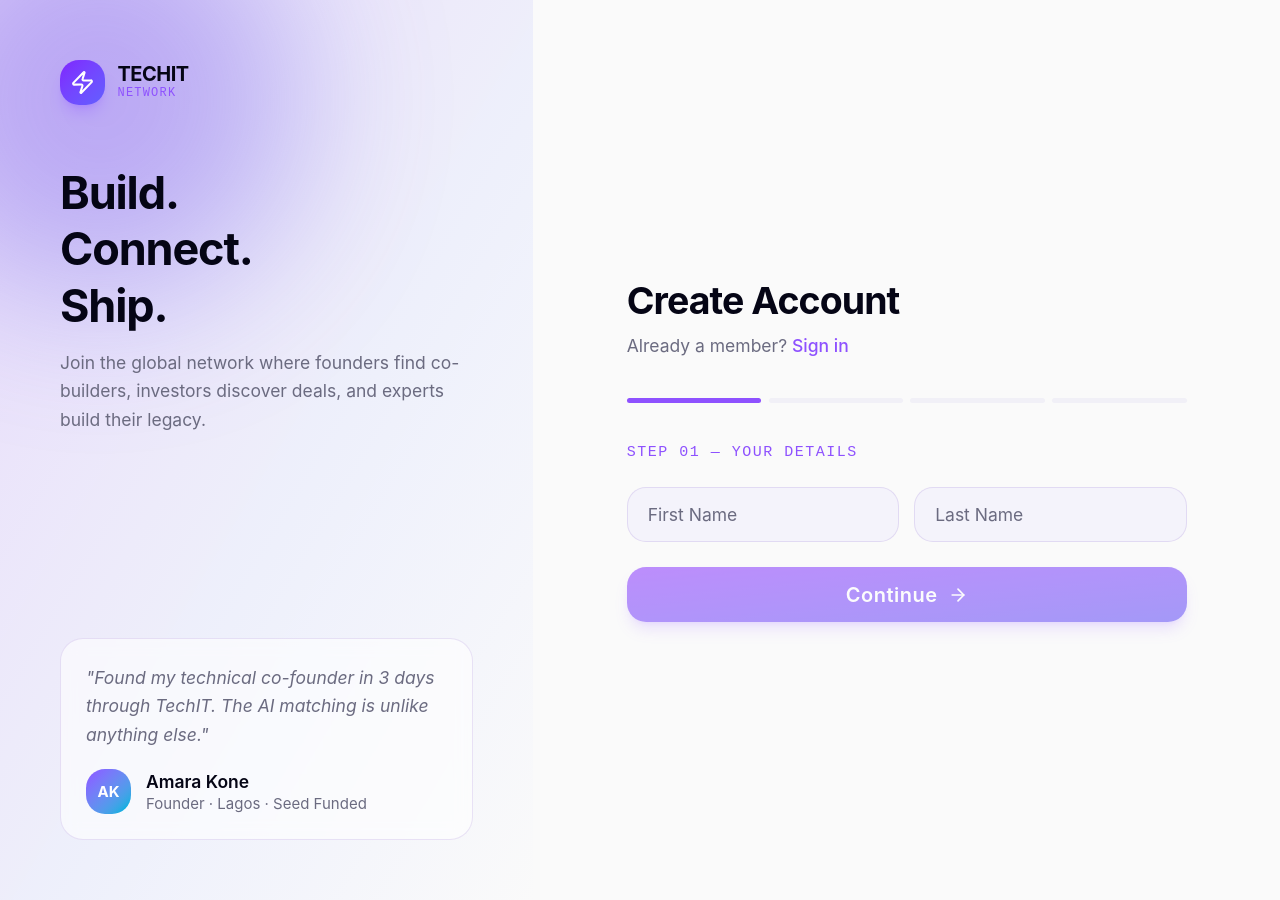
it: Signup page › Step 2 — Role & Email › Back button returns to step 1
In the field with placeholder "First Name": {"x": 763, "y": 515} [627,488,899,542], type "Alice"
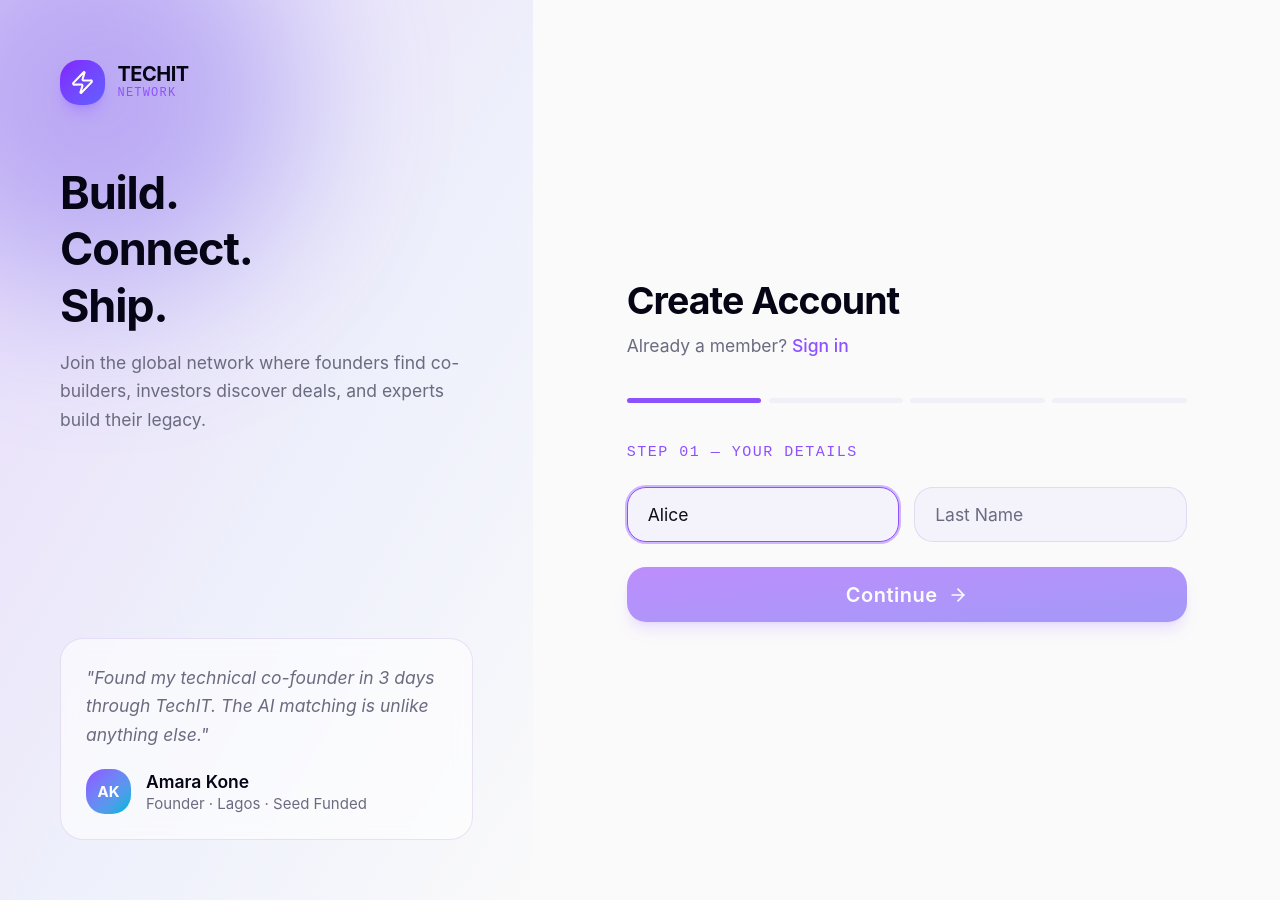
In the field with placeholder "Last Name": {"x": 1050, "y": 515} [914,488,1187,542], type "Smith"
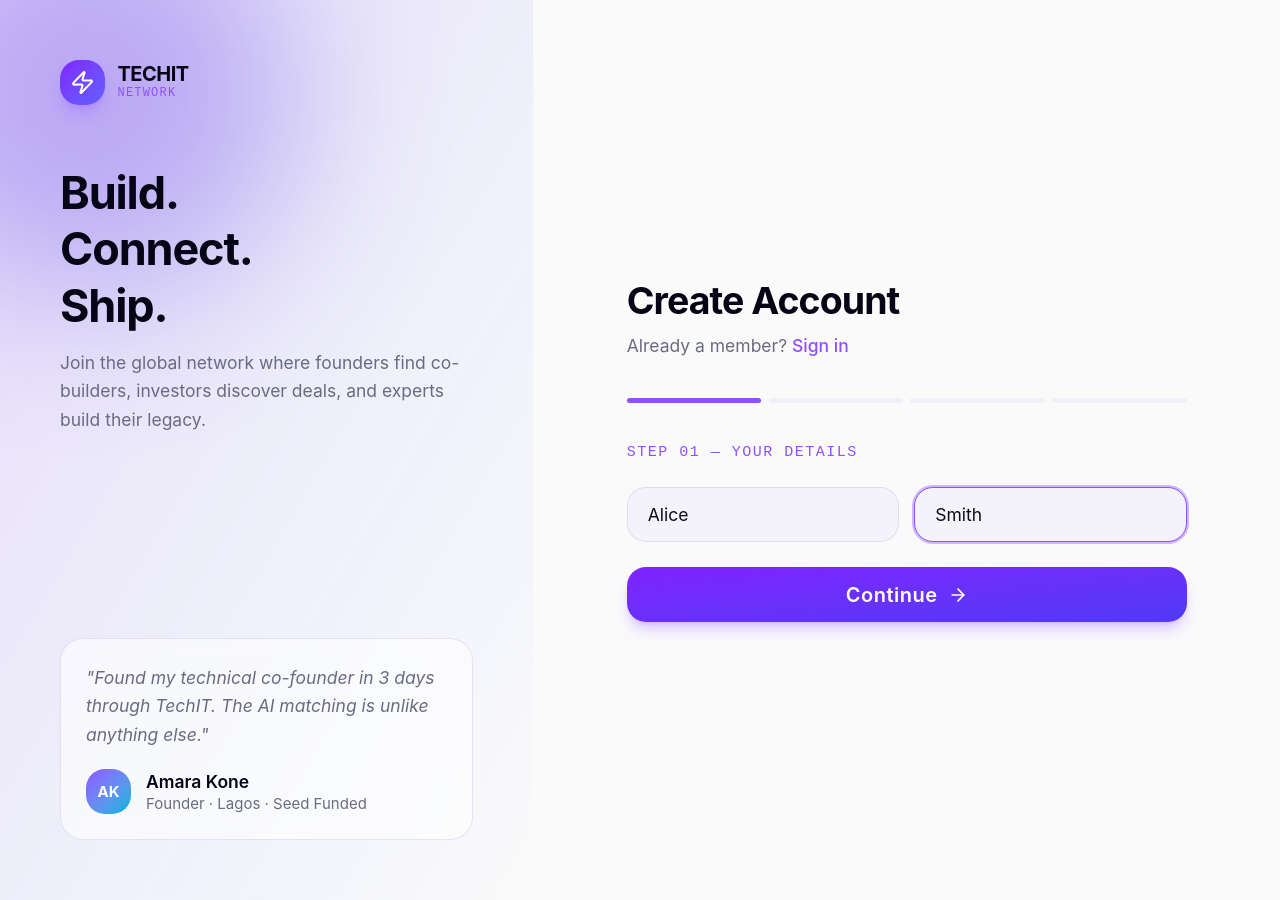
Click the button "Continue": {"x": 907, "y": 595} [627,568,1187,622]
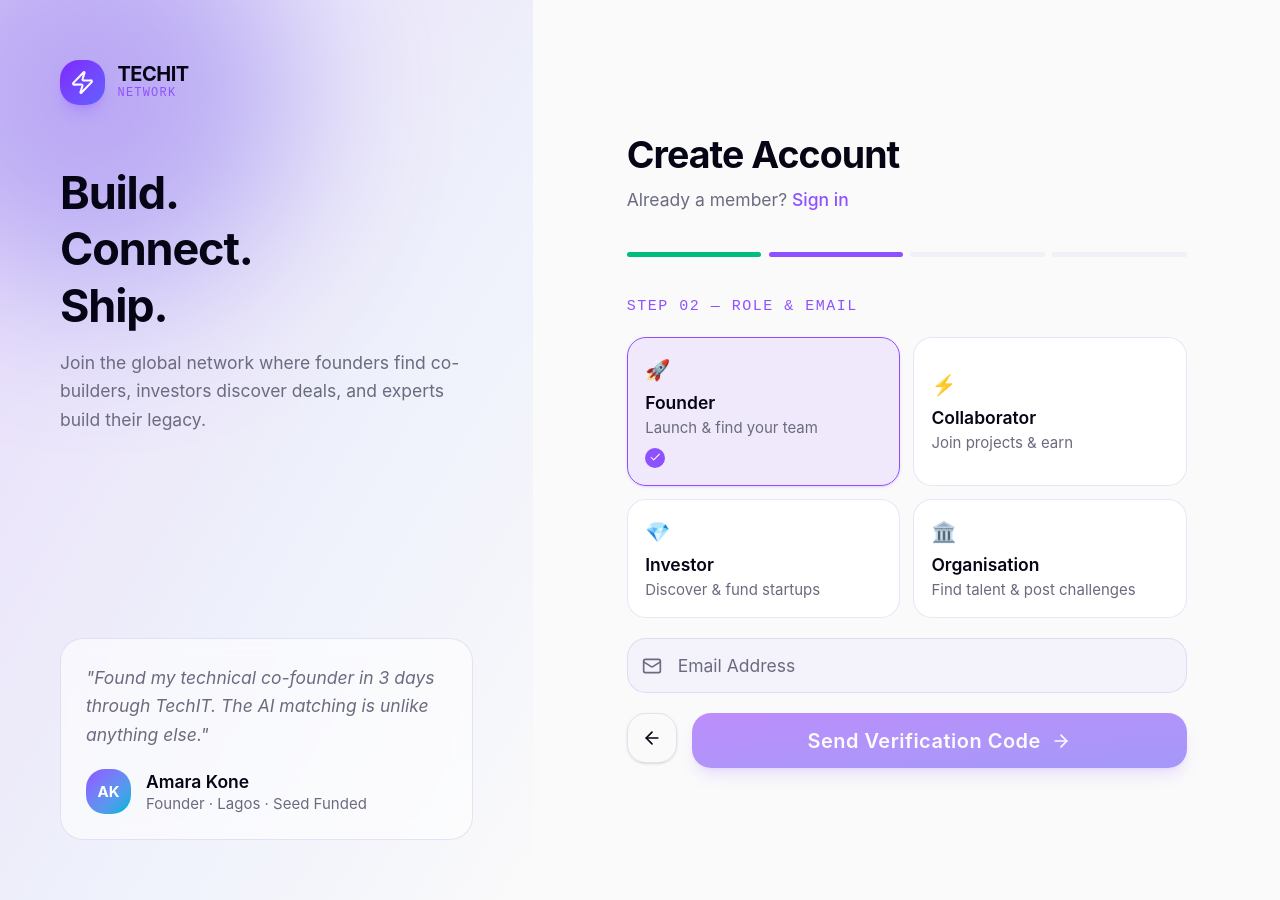
Click the 5th button: {"x": 652, "y": 738} [627,713,677,763]
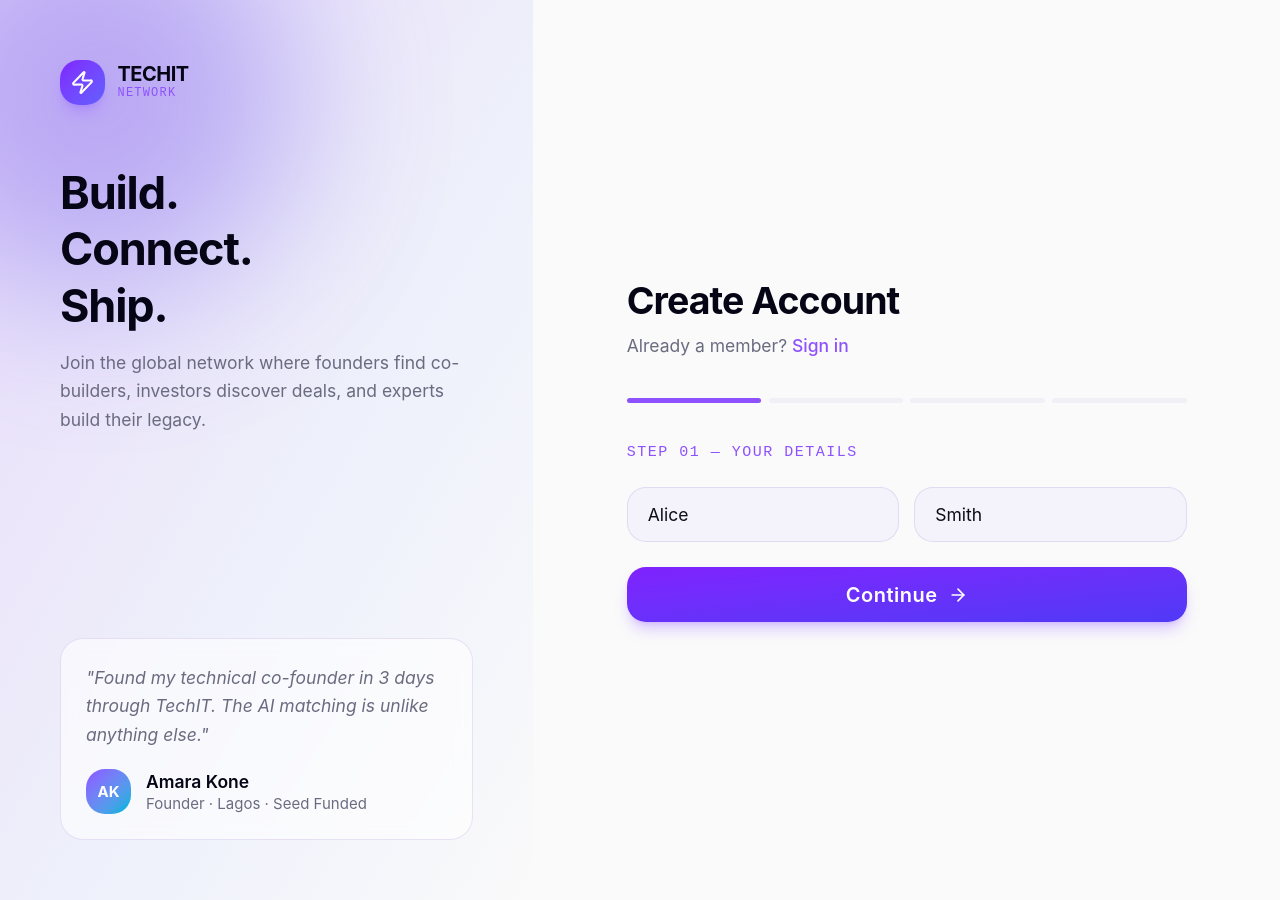
Expected: the text "Step 01 — Your Details" is shown, [627,444,858,460]
